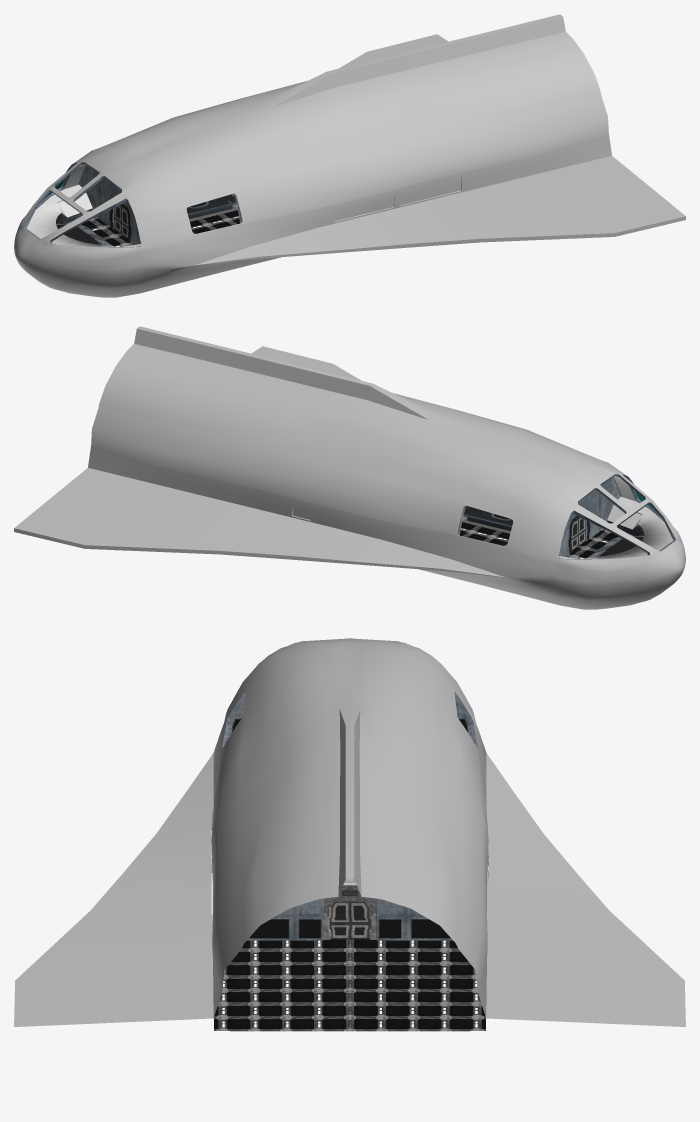
File: compressed_ship.glb
The picture shows the model from 3 angles, top to bottom: view 1: azimuth 30°, elevation 25°; view 2: azimuth 150°, elevation 25°; view 3: azimuth 270°, elevation 25°; orthographic projection. The views are drawn at different scales.
Parts seen in each view (by area): view 1: Object_89, Object_75, Object_67, Object_91, Object_65, Object_35, Object_99; view 2: Object_89, Object_75, Object_67, Object_91, Object_65, Object_35, Object_99; view 3: Object_89, Object_91, Object_55, Object_19, Object_83.
Part boxes in pixels (left/top/right/bottom): Object_89: left=14, top=14, right=685, bottom=297; Object_75: left=27, top=184, right=140, bottom=247; Object_67: left=79, top=166, right=140, bottom=244; Object_91: left=66, top=204, right=239, bottom=246; Object_65: left=24, top=162, right=140, bottom=247; Object_35: left=186, top=194, right=237, bottom=221; Object_99: left=56, top=223, right=112, bottom=245; Object_89: left=14, top=326, right=685, bottom=609; Object_75: left=559, top=496, right=672, bottom=559; Object_67: left=559, top=478, right=620, bottom=556; Object_91: left=460, top=516, right=633, bottom=558; Object_65: left=559, top=474, right=675, bottom=559; Object_35: left=462, top=506, right=513, bottom=533; Object_99: left=587, top=535, right=643, bottom=557; Object_89: left=14, top=638, right=685, bottom=1026; Object_91: left=214, top=919, right=485, bottom=1031; Object_55: left=247, top=898, right=452, bottom=940; Object_19: left=329, top=901, right=369, bottom=939; Object_83: left=324, top=885, right=376, bottom=939.
Size of the model in its own units: 50.68 by 15.34 by 39.97.
Materials: 26 (24 with a texture image).
